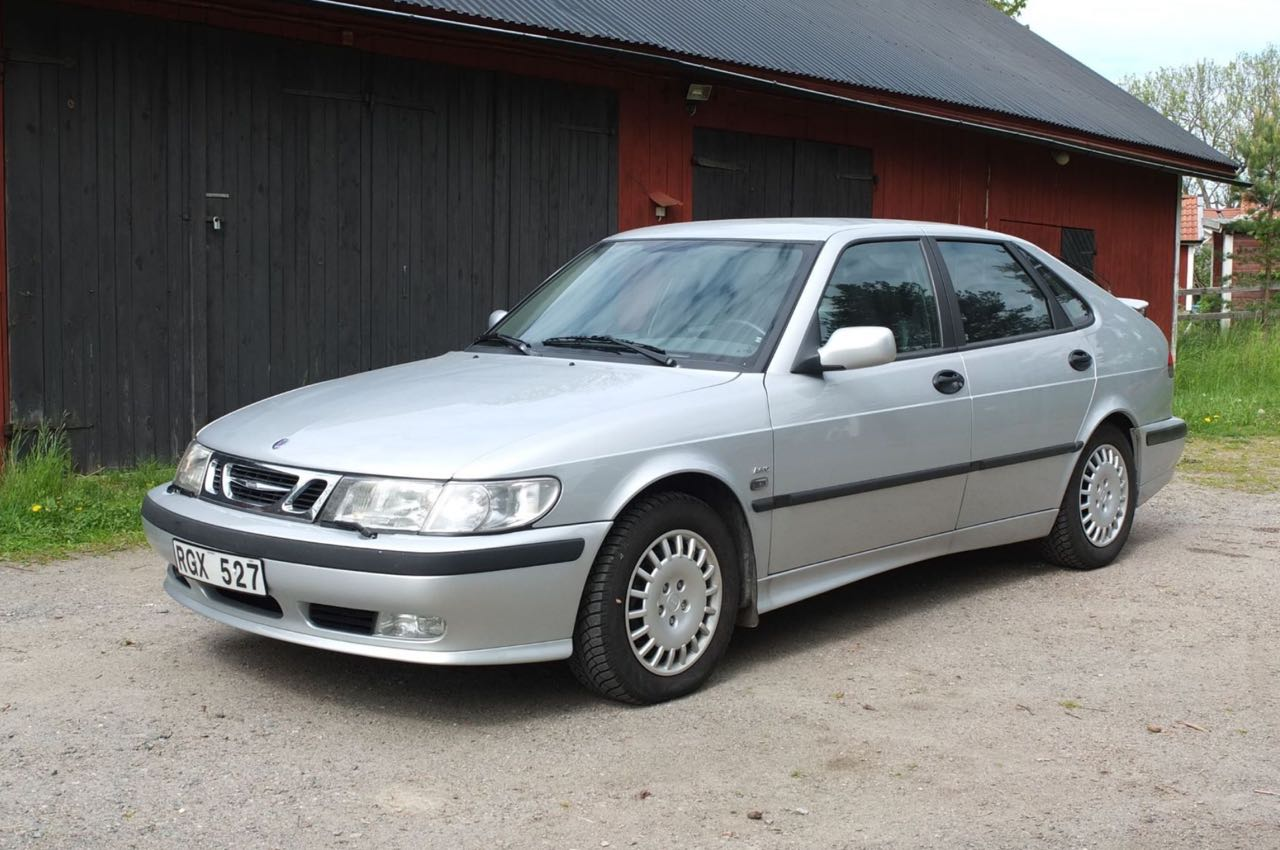car: (133, 208, 1192, 711)
